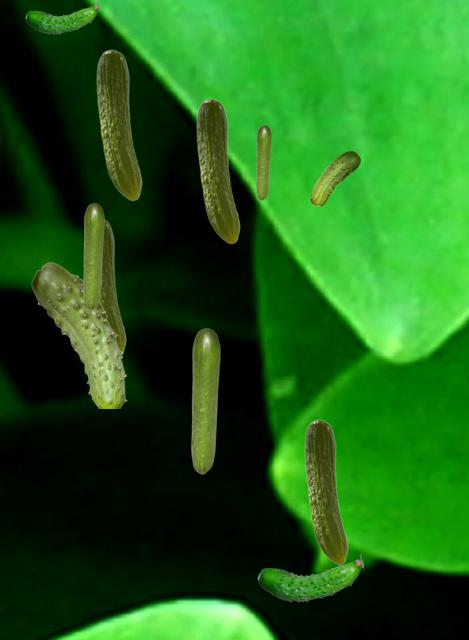cucumber: (31, 262, 126, 407), (96, 49, 141, 200), (304, 419, 347, 564), (196, 98, 239, 243), (257, 554, 362, 601), (191, 328, 219, 473), (100, 218, 125, 352), (310, 151, 359, 205), (25, 1, 98, 33), (83, 203, 103, 309), (256, 125, 270, 199)
